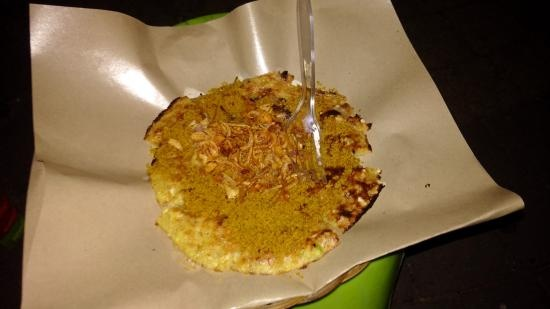kerak_telor: (144, 68, 380, 278)
